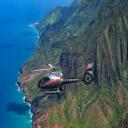helicopter: (32, 65, 99, 95)
